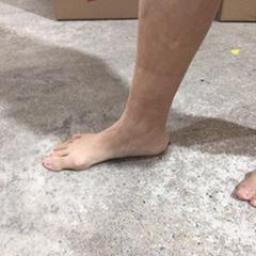Medial View -Right Foot-: (40, 95, 184, 174)
